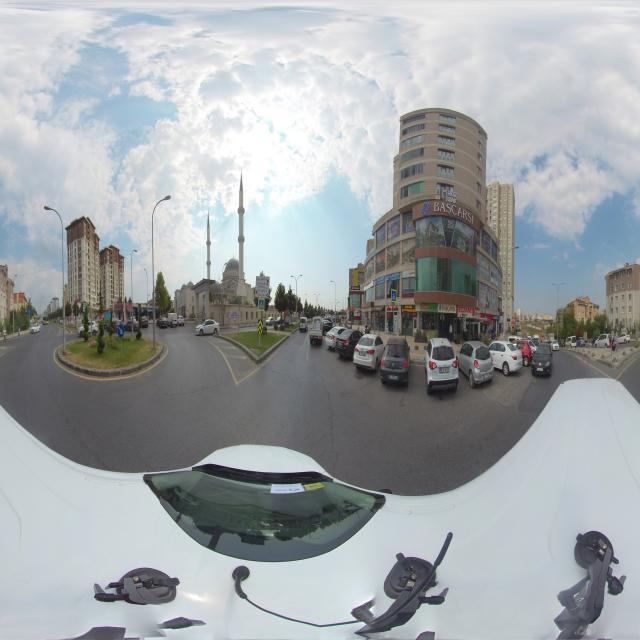SignStore: (458, 306, 472, 317), (439, 304, 456, 313), (421, 303, 436, 312), (387, 273, 399, 282), (402, 305, 415, 313), (376, 276, 385, 285), (387, 305, 399, 311), (481, 283, 489, 292), (115, 303, 123, 308), (351, 286, 360, 290), (493, 315, 499, 320), (125, 303, 132, 307), (475, 307, 480, 312)
